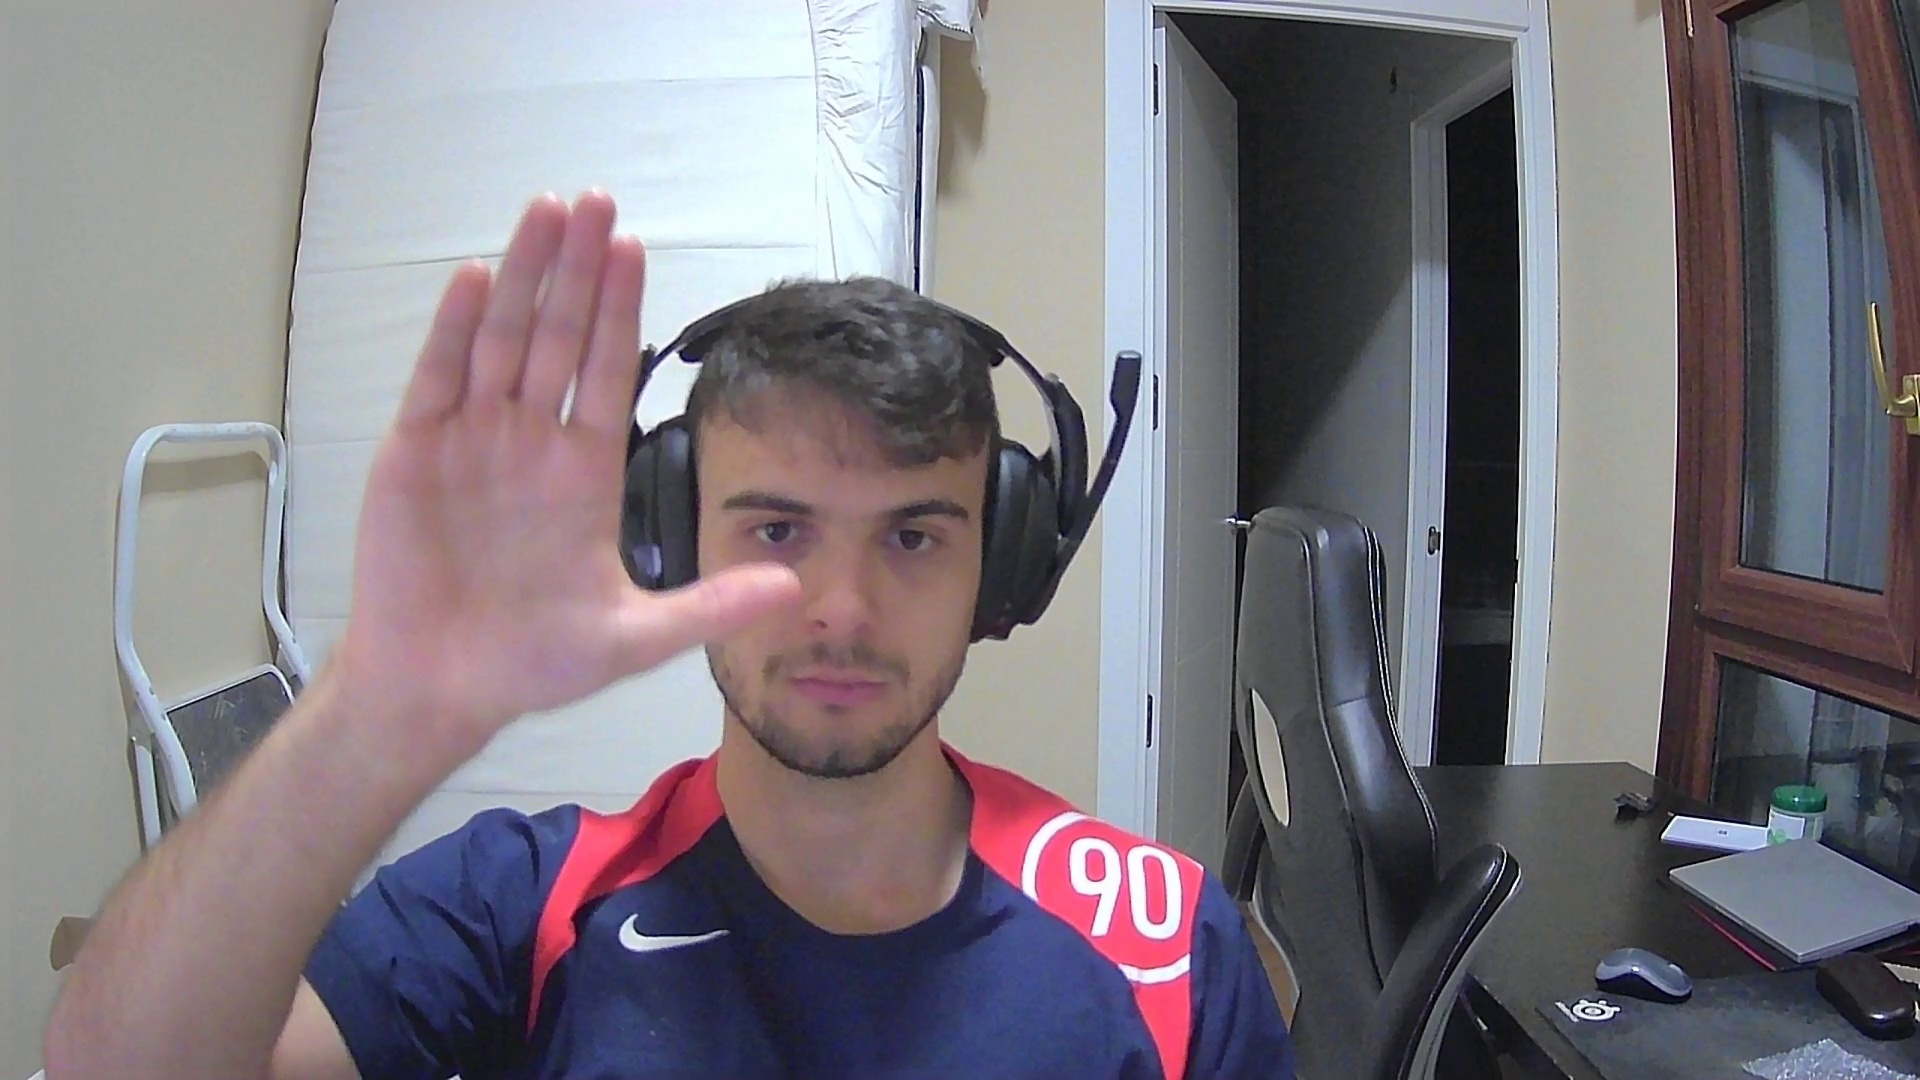Palm: (323, 185, 808, 684)
